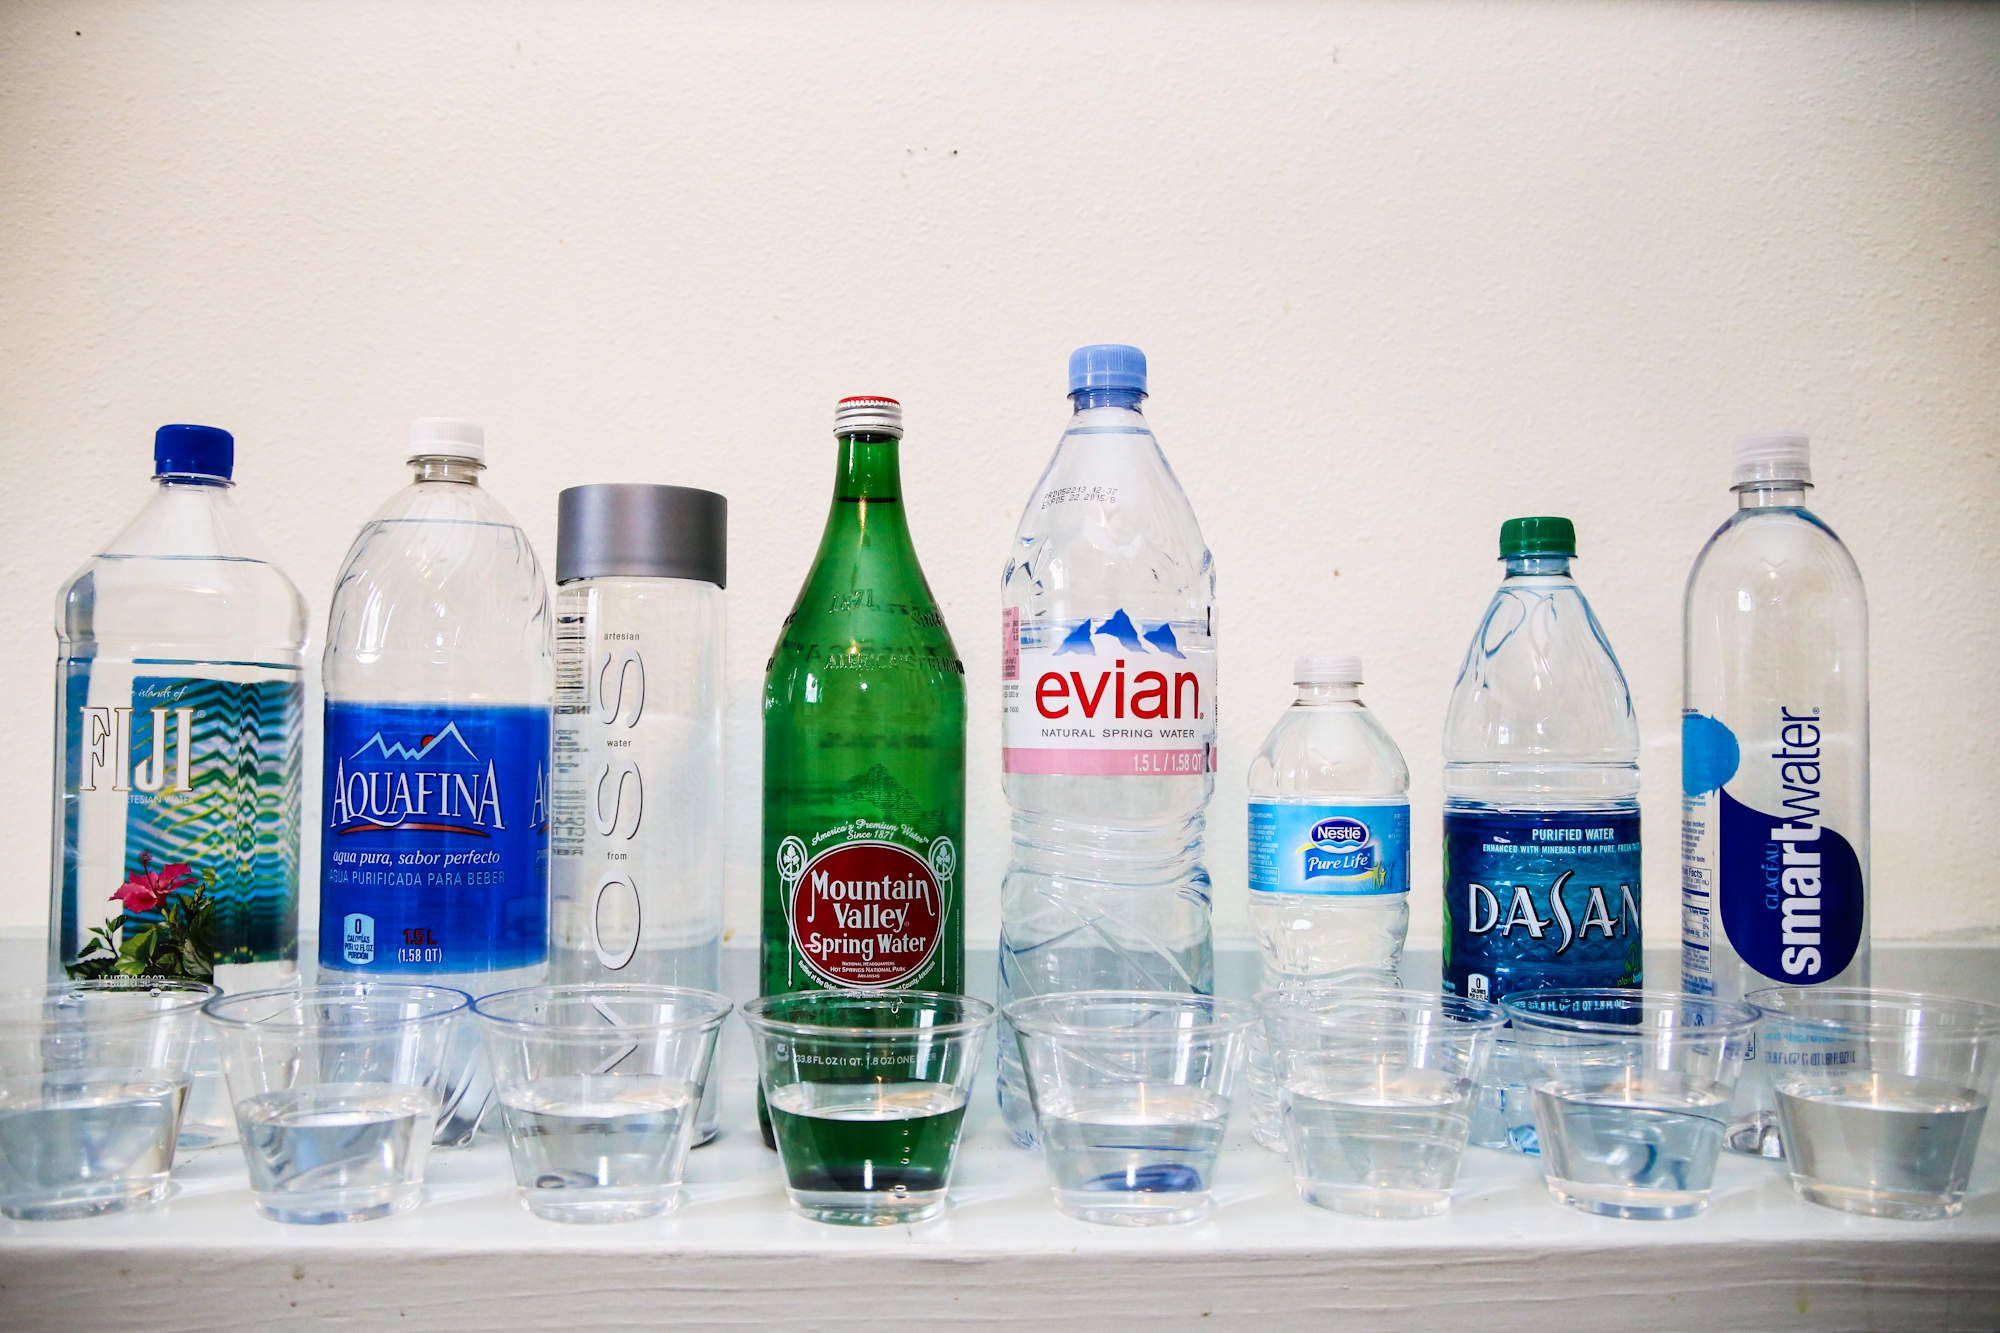bottle: (764, 394, 970, 1141)
cup: (1254, 989, 1506, 1223), (1749, 992, 2000, 1226), (474, 991, 726, 1224), (213, 989, 465, 1221), (1004, 983, 1255, 1215), (1515, 995, 1767, 1227), (1, 983, 251, 1215), (778, 961, 981, 1227)
plastic_bottle: (1640, 414, 1943, 1021), (981, 332, 1245, 988), (33, 394, 303, 983), (318, 388, 577, 983), (1444, 495, 1659, 1025), (1225, 652, 1429, 977)
